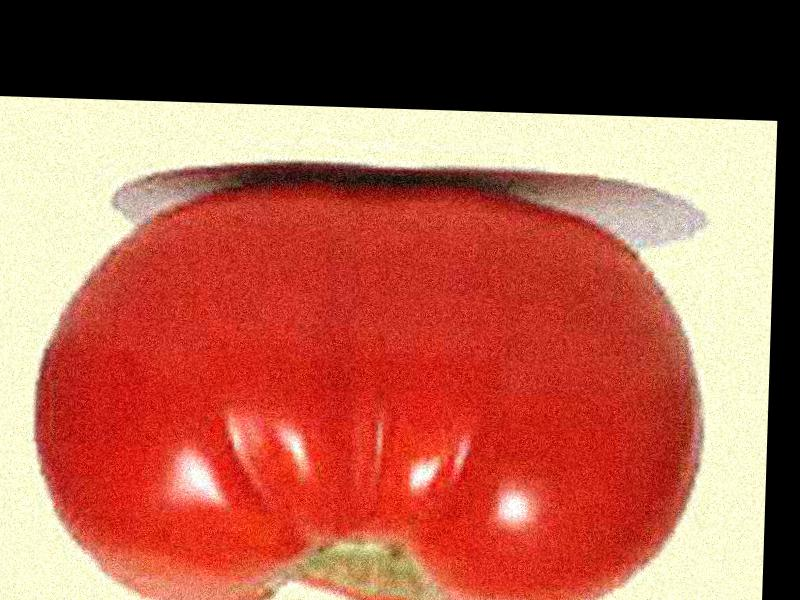Tomato: (27, 176, 707, 600)
